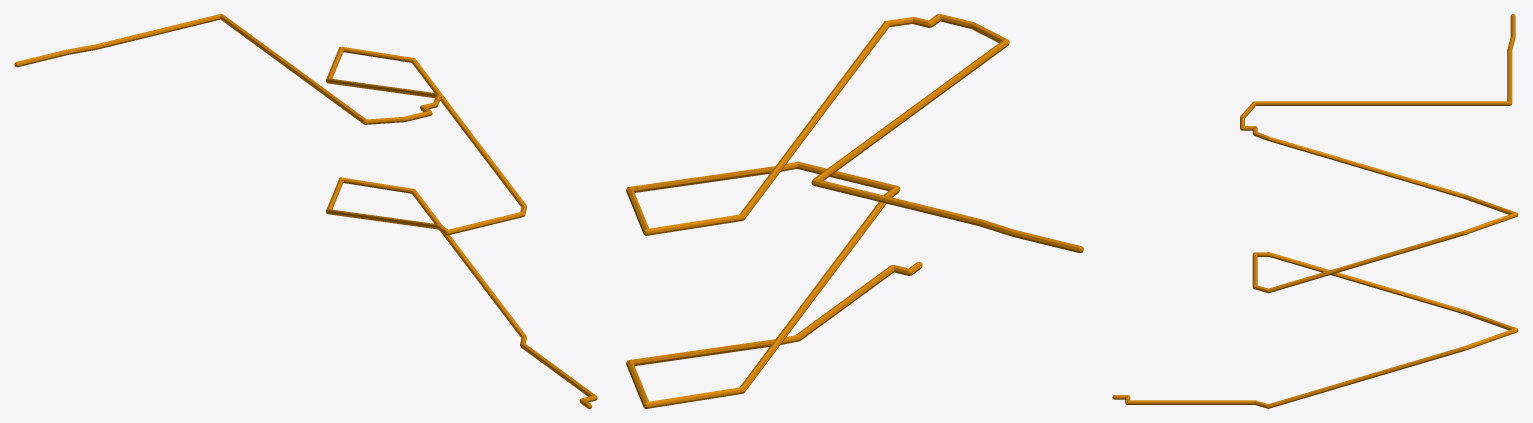
3 renders of one model, left to right at view 1: azimuth 30°, elevation 25°; view 2: azimuth 150°, elevation 25°; view 3: azimuth 270°, elevation 25°, orthographic. The views are drawn at different scales.
Bounding box in the file's own units: 1495 × 1020 × 1592.
